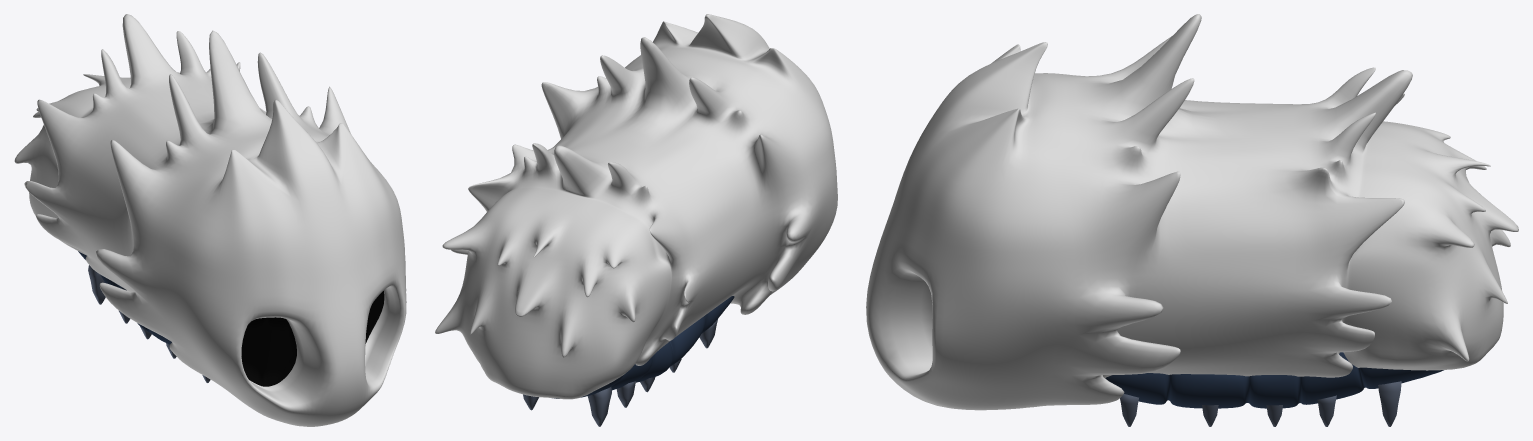
The model's file is tiktik.glb.
The picture shows the model from 3 angles, left to right: view 1: azimuth 30°, elevation 25°; view 2: azimuth 150°, elevation 25°; view 3: azimuth 270°, elevation 25°; orthographic projection. The views are drawn at different scales.
Parts seen in each view (by area): view 1: body, paw4; view 2: body, scutes, paw4; view 3: body, scutes, paw4.
Boxes of the visible parts, x1,y1,x2,y2 form: body: (14,14,406,426); paw4: (88,265,210,382); body: (435,14,837,399); scutes: (552,296,734,398); paw4: (523,318,718,426); body: (866,14,1518,410); scutes: (1105,352,1443,408); paw4: (1120,381,1401,426).
Bounding box in the file's own units: 0.1225 × 0.1415 × 0.2134.
